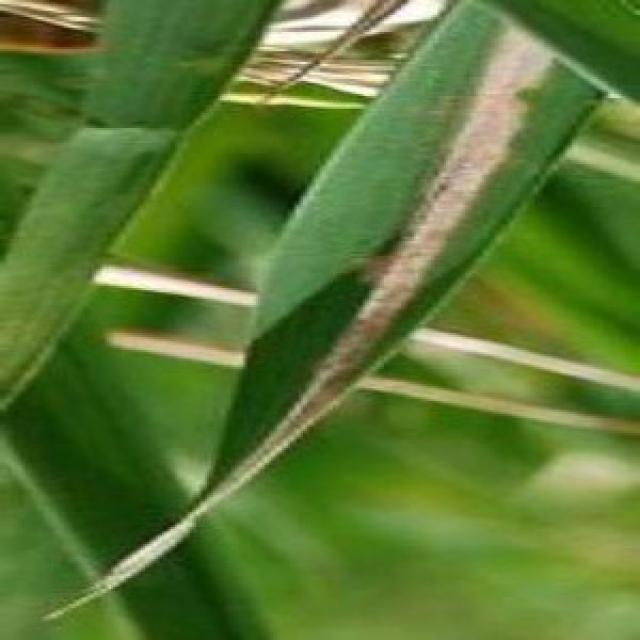leaf blight: (239, 19, 576, 480)
